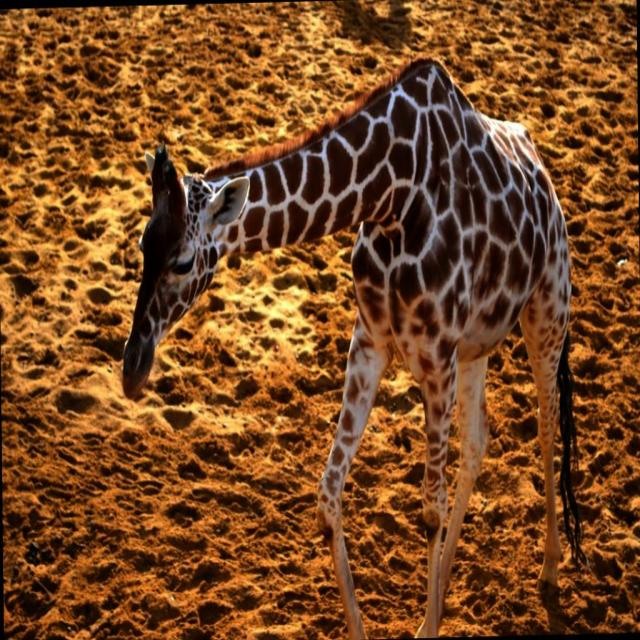Giraffe: (110, 33, 597, 639)
